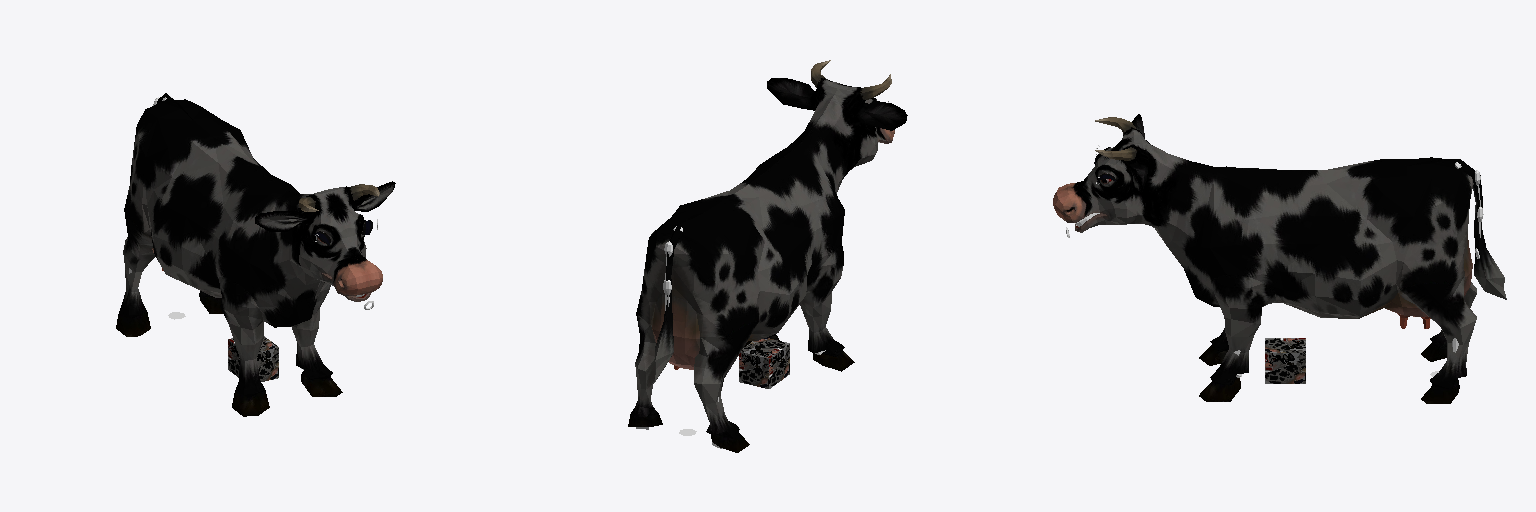
The picture shows the model from 3 angles: view 1: azimuth 30°, elevation 25°; view 2: azimuth 150°, elevation 25°; view 3: azimuth 270°, elevation 25°; orthographic projection.
Parts seen in each view (by area): view 1: (null); view 2: (null); view 3: (null).
Part boxes in pixels (x1,y1,x2,y2): (null): (116, 93, 395, 416); (null): (628, 60, 907, 452); (null): (1053, 114, 1506, 403).
Size of the model in its own units: 1 by 1.66 by 2.8.
Materials: 1 (1 with a texture image).